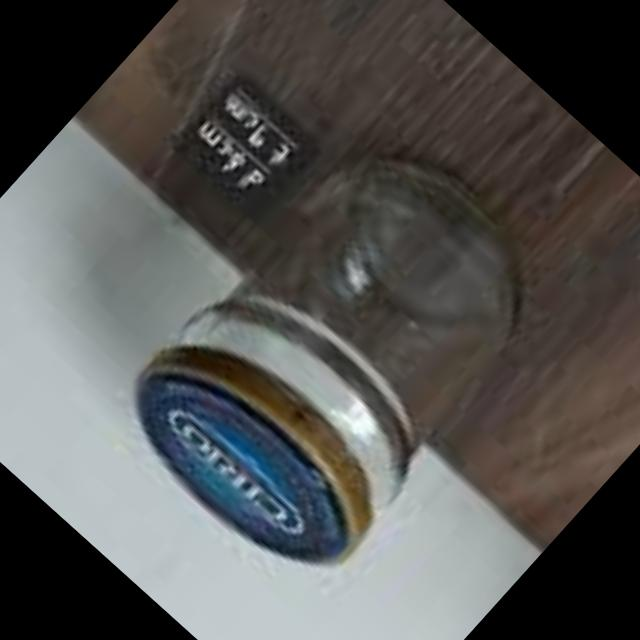ToplesKaca: (78, 94, 592, 614)
